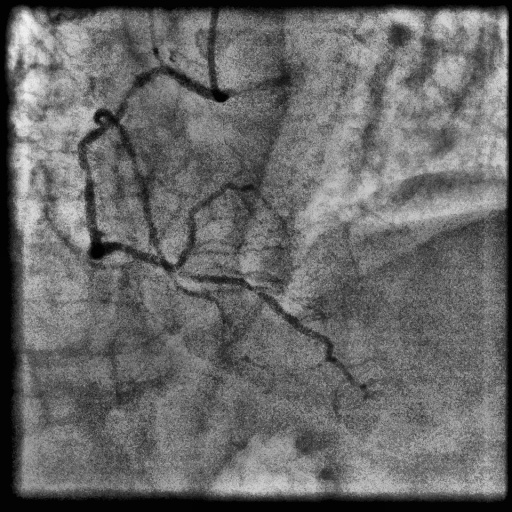pborca: (176, 183, 230, 268)
pda: (175, 269, 355, 383)
rca: (76, 66, 216, 274)
